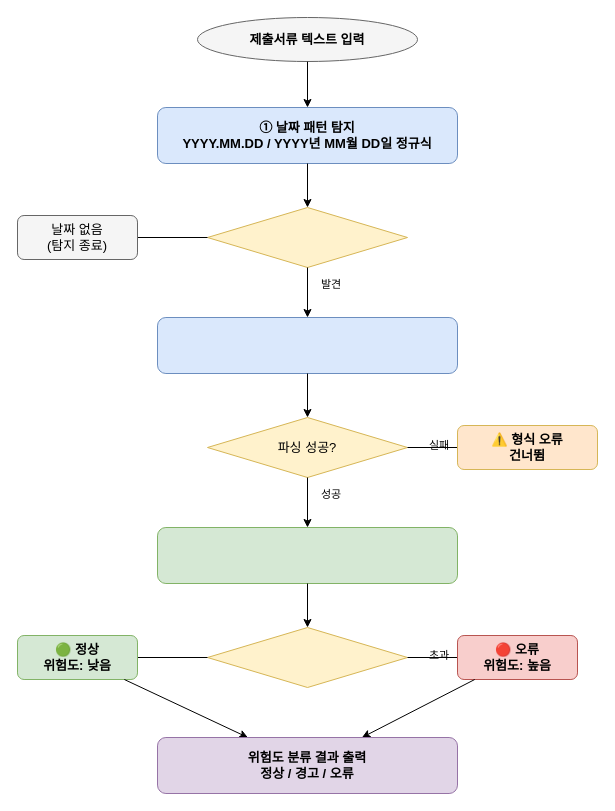
Some shapes in this 615 by 811 pixel diagram are drawn without their labels. The centre of each missing label's shape, as x and y in pixels:
② 날짜 파싱 문자열 → datetime 객체 변환: point 307,345
③ 마감일과 비교 추출 날짜 vs 접수 마감일(deadline): point 307,555
마감일 초과?: point 307,657
패턴 발견?: point 307,237
